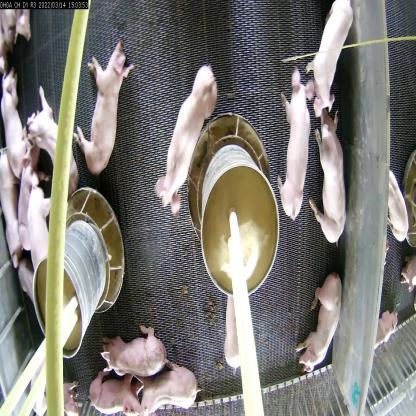Pig: (166, 47, 229, 214), (70, 40, 142, 185), (304, 0, 351, 111), (274, 66, 306, 224), (35, 88, 77, 200), (310, 128, 348, 246), (4, 158, 47, 256), (100, 322, 160, 383), (215, 256, 244, 376), (1, 67, 35, 167), (298, 278, 334, 368), (135, 367, 201, 415), (84, 363, 132, 411)
